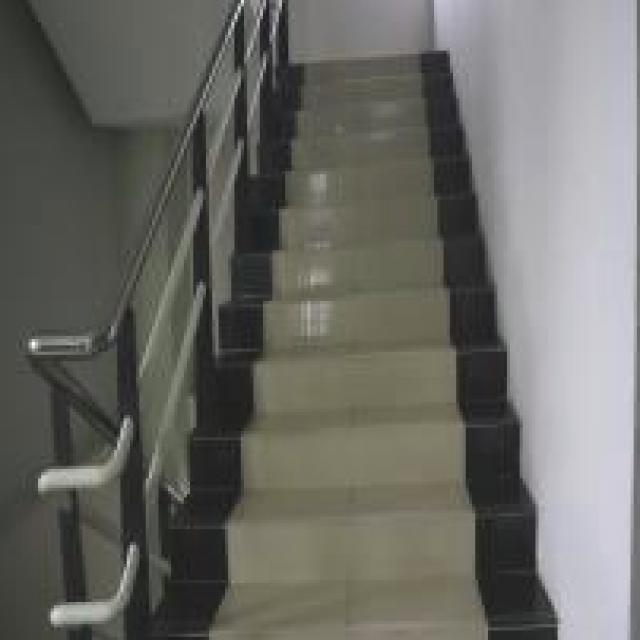upstair: (187, 89, 498, 640)
